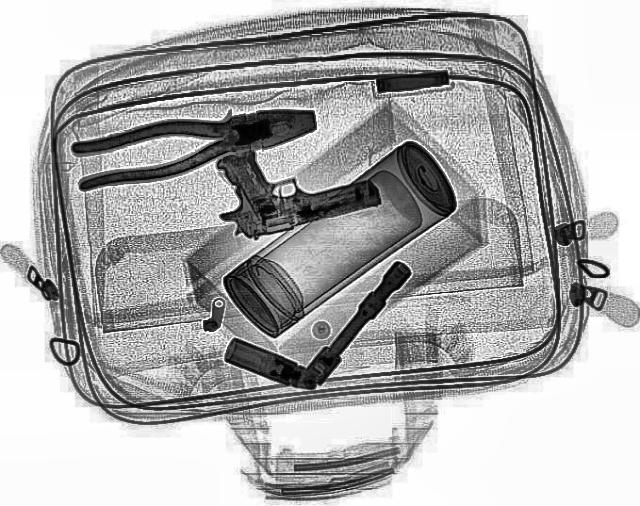Gun: (196, 123, 384, 243)
Pliers: (61, 94, 326, 190)
